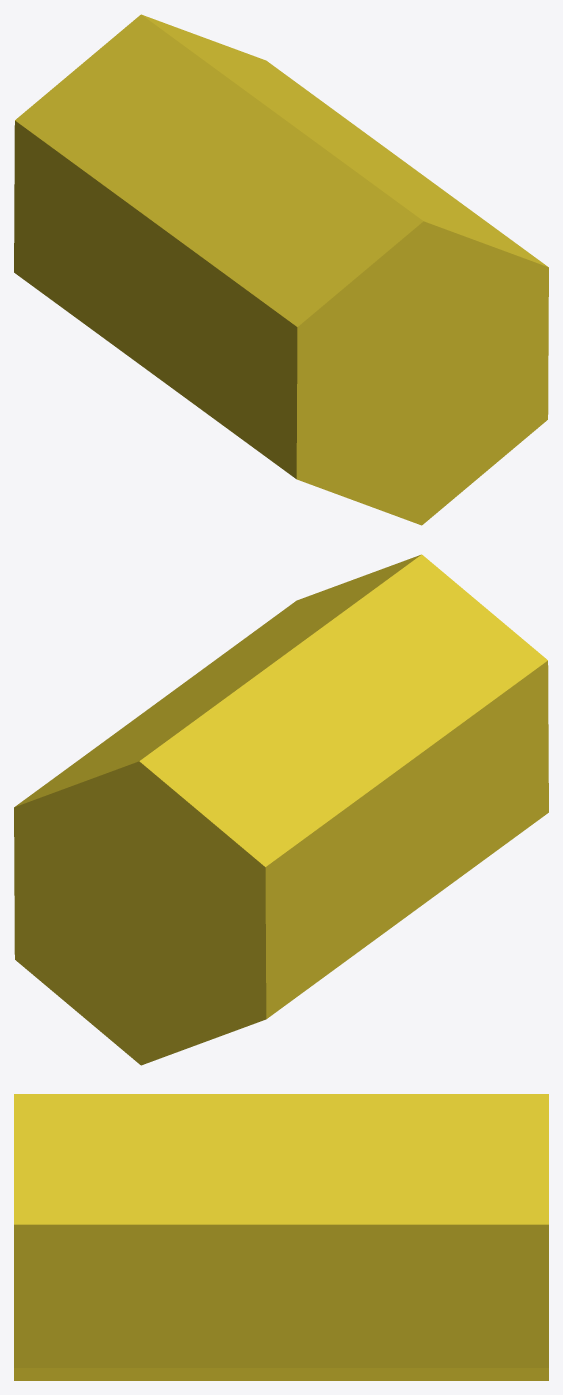
3 views of the same model, one above another, from view 1: azimuth 30°, elevation 25°; view 2: azimuth 150°, elevation 25°; view 3: azimuth 270°, elevation 25° (orthographic). The views are drawn at different scales.
Parts seen in each view (by area): view 1: bullet; view 2: bullet; view 3: bullet.
Part boxes in pixels (x1,y1,x2,y2): bullet: (14,14,548,525); bullet: (14,554,548,1065); bullet: (14,1094,548,1380).
Bounding box in the file's own units: 0.9685 × 1.11 × 1.88.
Materials: 1 (1 with a texture image).
